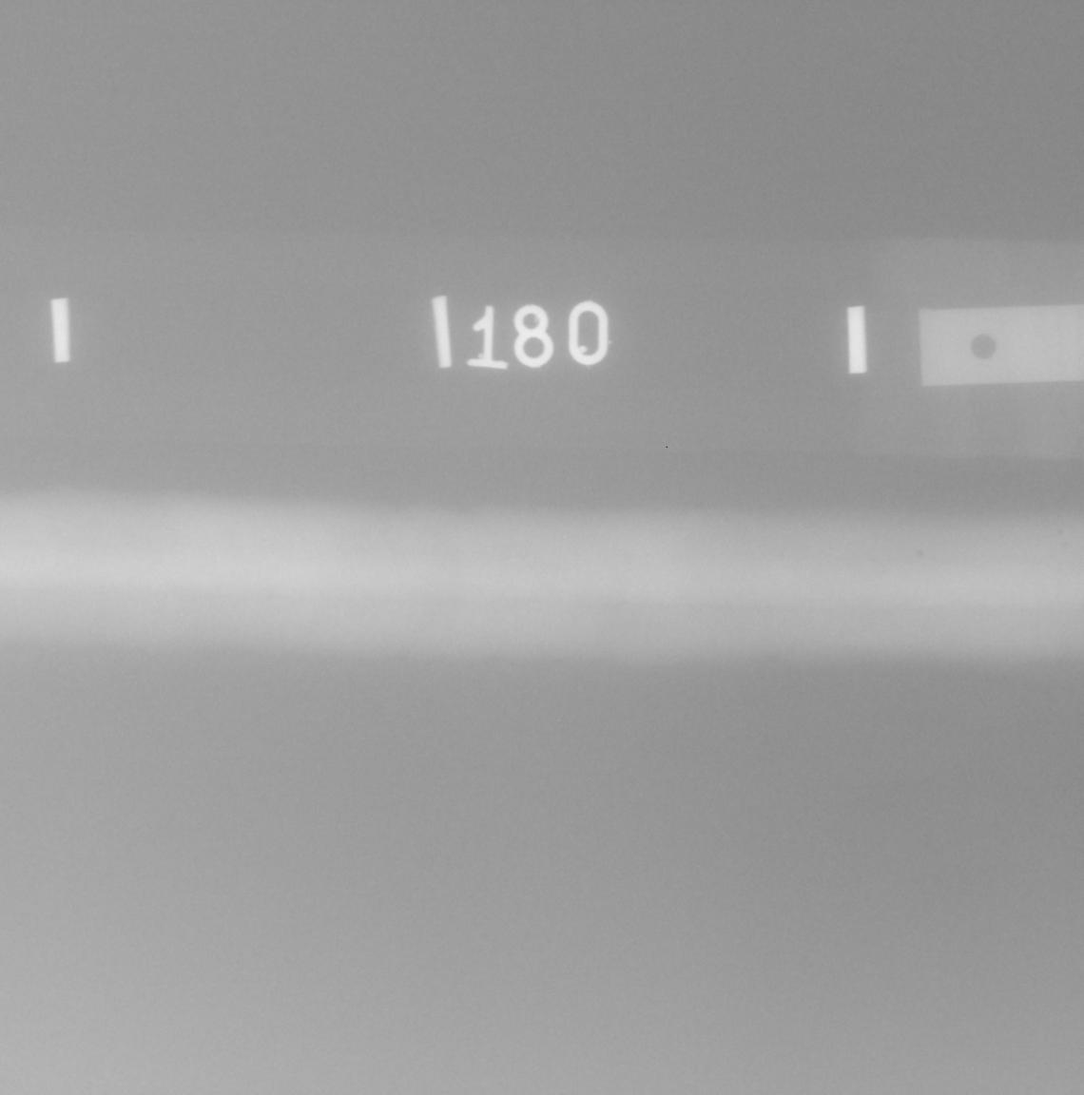Pore/Porosity: (1061, 541, 1069, 549), (1057, 528, 1064, 536), (918, 551, 924, 557)
